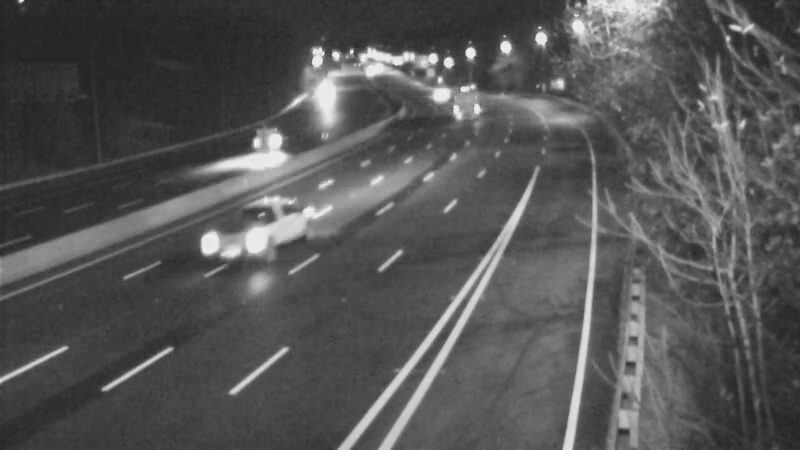vehicle: (231, 186, 311, 266), (417, 66, 467, 116), (434, 70, 484, 120), (255, 110, 305, 160), (300, 69, 350, 119)
